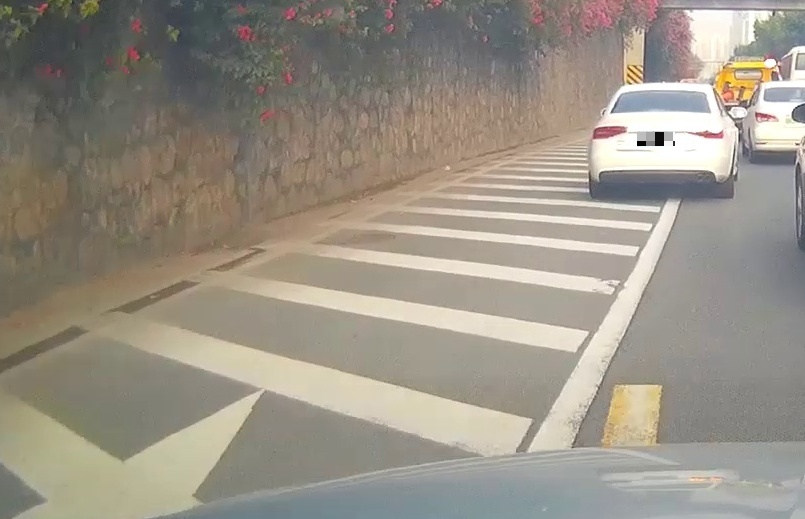L_light: (591, 126, 628, 140)
R_light: (685, 125, 724, 139)
T_light: (647, 90, 679, 95)
day-no: (588, 83, 734, 199)
plate_1: (637, 132, 675, 146)
